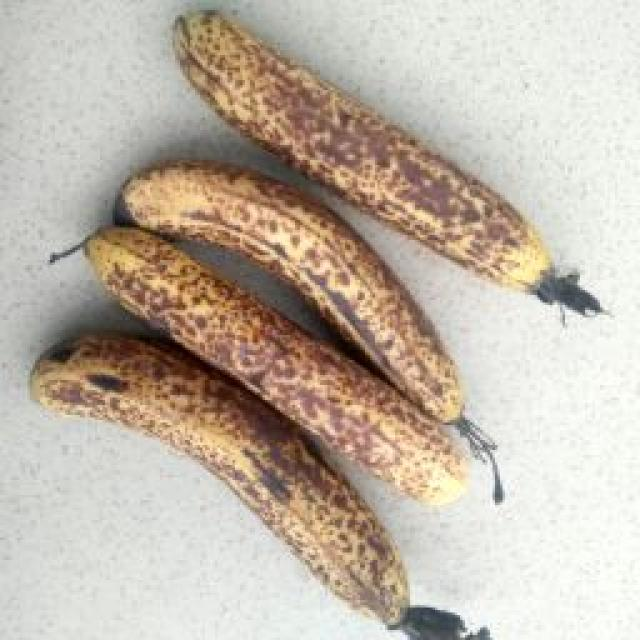banana: (40, 65, 605, 640)
